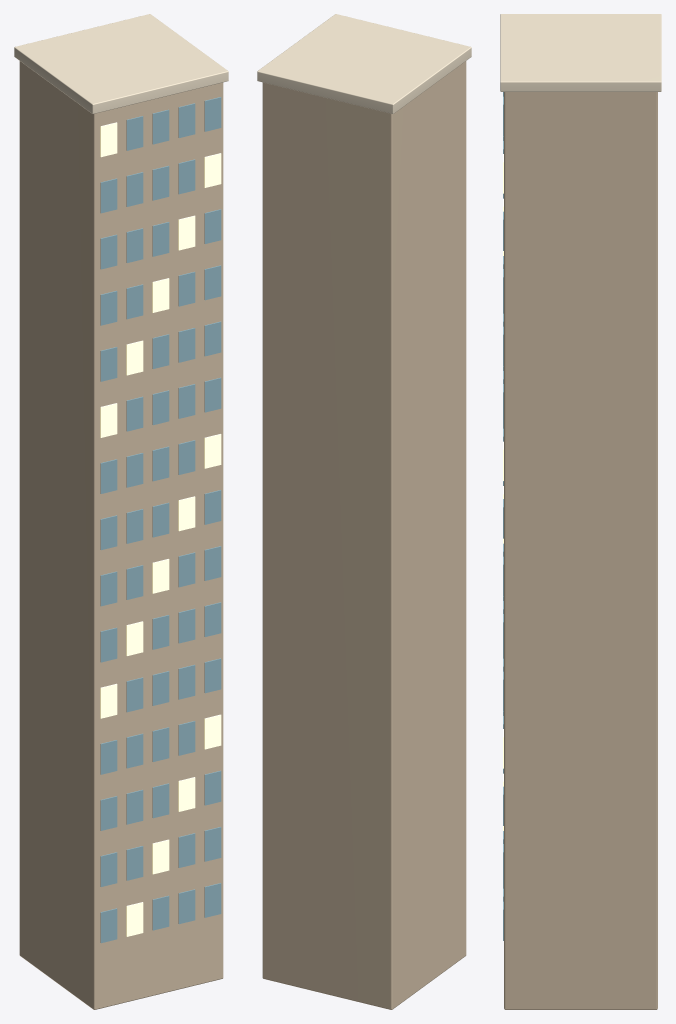
Rendered from tower_b.glb.
The picture shows the model from 3 angles, left to right: view 1: azimuth 30°, elevation 25°; view 2: azimuth 150°, elevation 25°; view 3: azimuth 270°, elevation 25°; orthographic projection. The views are drawn at different scales.
Visible parts, largest first — view 1: Body, Crown, W3_3, W4_4, W10_0, W1_1, W2_2, W3_0, W5_0, W7_2, W10_3, W11_1 (+65 smaller); view 2: Body, Crown; view 3: Body, Crown.
Boxes of the visible parts, x1,y1,x2,y2 form: Body: (19,61,223,1009); Crown: (14,14,228,113); W3_3: (178,777,195,811); W4_4: (204,714,221,749); W10_0: (100,403,117,437); W1_1: (126,902,143,936); W2_2: (152,839,169,874); W3_0: (100,796,117,830); W5_0: (100,683,117,718); W7_2: (152,559,169,593); W10_3: (178,384,195,418); W11_1: (126,340,143,375); Body: (262,61,466,1009); Crown: (257,14,471,113); Body: (504,92,657,1009); Crown: (500,14,661,91).
Bounding box in the file's own units: 8.4 × 53.4 × 8.4.
